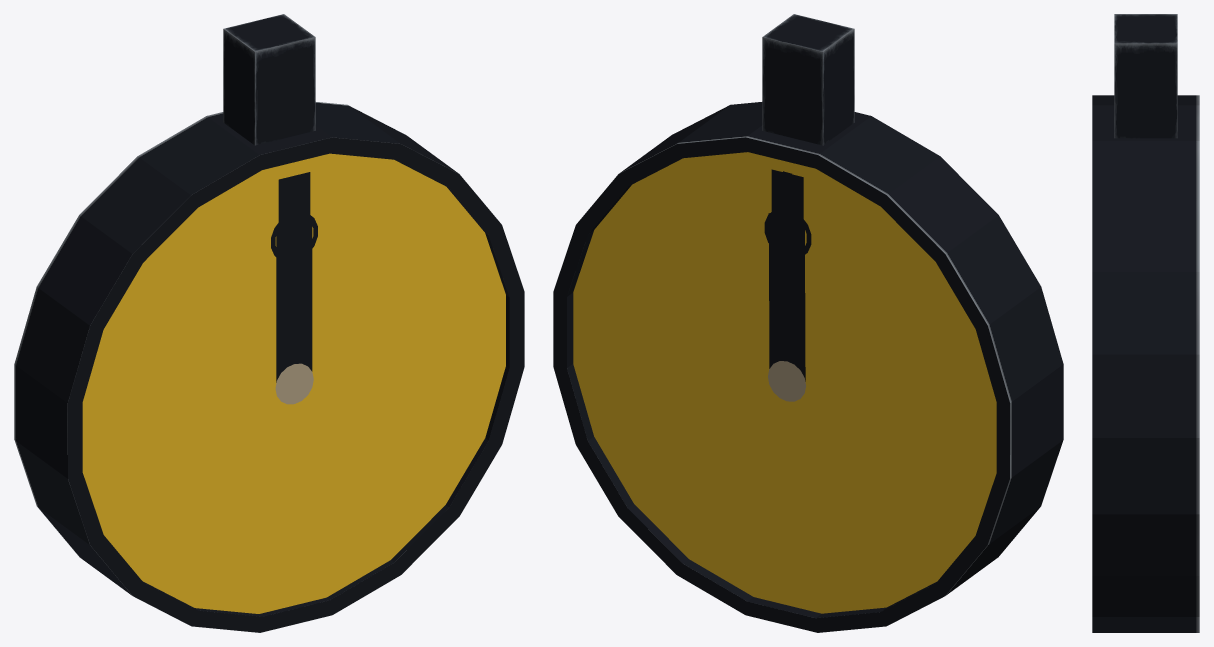
File: Clock 1.fbx
3 views of the same model, side by side, from view 1: azimuth 30°, elevation 25°; view 2: azimuth 150°, elevation 25°; view 3: azimuth 270°, elevation 25° (orthographic).
Parts seen in each view (by area): view 1: Cylinder, Plane.001, Plane.002, Circle, Plane; view 2: Cylinder, Plane.004, Plane.003, Circle.001; view 3: Cylinder.
Boxes of the visible parts, <box> form: Cylinder: <box>14,14,524,632</box>; Plane.001: <box>276,219,312,382</box>; Plane.002: <box>271,175,317,365</box>; Circle: <box>275,363,313,404</box>; Plane: <box>278,172,310,224</box>; Cylinder: <box>553,14,1063,632</box>; Plane.004: <box>768,213,805,381</box>; Plane.003: <box>771,169,803,220</box>; Circle.001: <box>768,361,805,401</box>; Cylinder: <box>1092,14,1199,632</box>.
Bounding box in the file's own units: 49.39 × 59.07 × 10.
